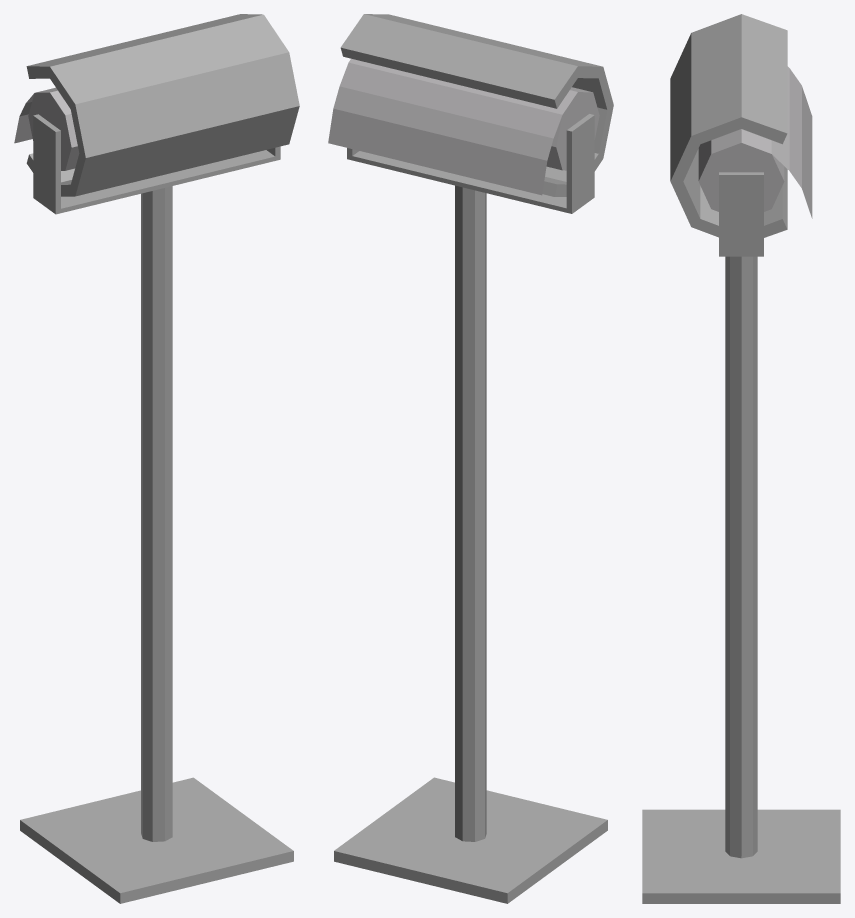
The model's file is SM_plasticBagsRack_01.glb.
3 renders of one model, left to right at view 1: azimuth 30°, elevation 25°; view 2: azimuth 150°, elevation 25°; view 3: azimuth 270°, elevation 25°, orthographic.
Parts seen in each view (by area): view 1: SM_plasticBagsRack_01; view 2: SM_plasticBagsRack_01; view 3: SM_plasticBagsRack_01.
Part boxes in pixels (<box>): SM_plasticBagsRack_01: <box>14,14,299,903</box>; SM_plasticBagsRack_01: <box>328,14,613,903</box>; SM_plasticBagsRack_01: <box>642,14,840,903</box>.
Size of the model in its own units: 0.3178 by 1.09 by 0.2454.
Materials: 1 (1 with a texture image).
